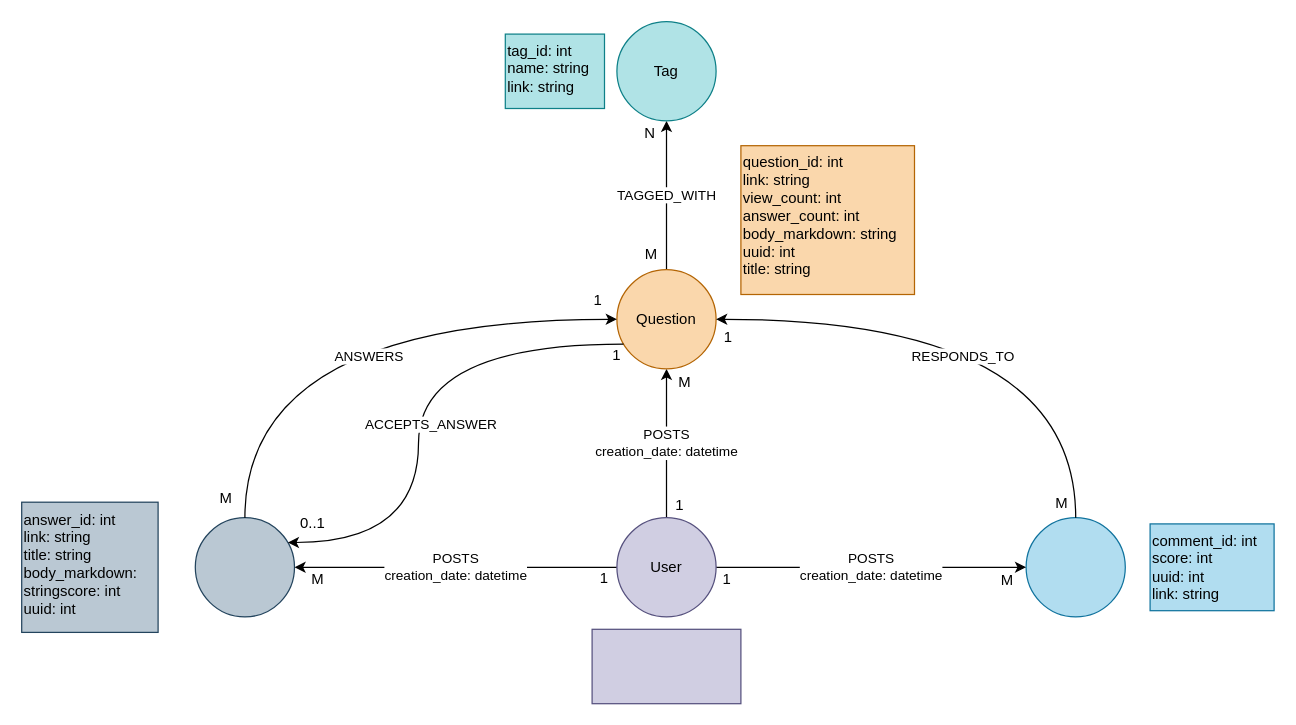
Image size: 1296x725. Some labels were removed from this diagram. Here are the shapes that lost their labels. From the top down, the box of each, then its label:
(194, 516, 294, 617): Answer
(1025, 516, 1125, 617): Comment
(591, 628, 741, 704): user_id: int uuid: int display_name: string
